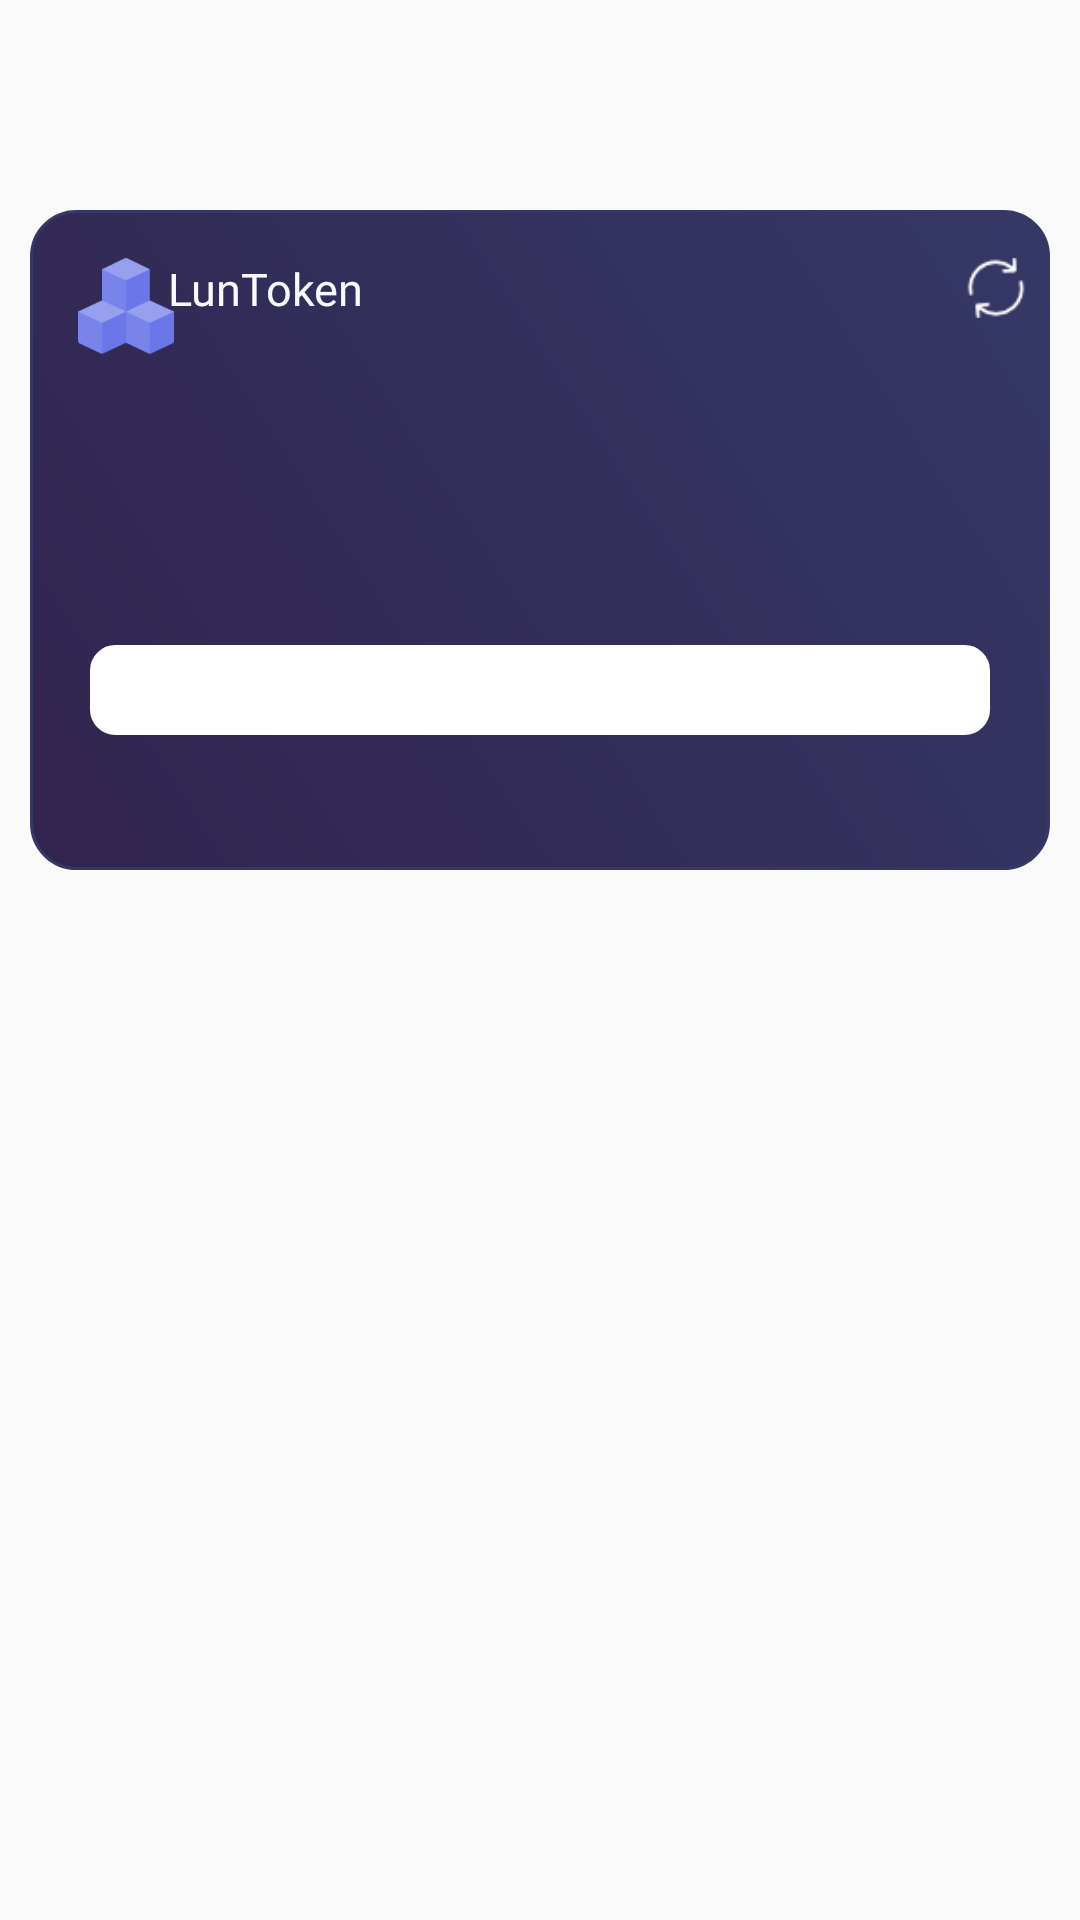

Locate icon controls on the screen. Image size 1080px×1920px, boxes as (x1=x1, y1=y1, x2=x2, y2=y2).
blockchain: (x1=78, y1=258, x2=174, y2=354)
reload: (x1=967, y1=258, x2=1025, y2=318)
